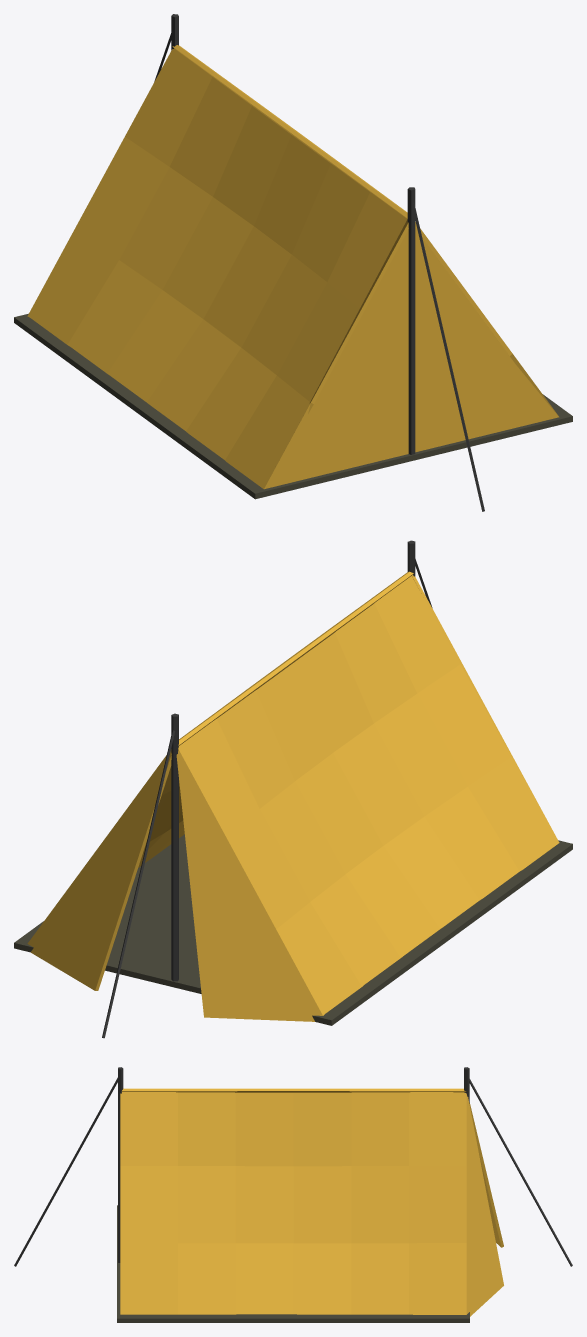
File: kemah-tenda-3.glb
The picture shows the model from 3 angles, top to bottom: view 1: azimuth 30°, elevation 25°; view 2: azimuth 150°, elevation 25°; view 3: azimuth 270°, elevation 25°; orthographic projection. The views are drawn at different scales.
Parts seen in each view (by area): view 1: tenda, alas, tiang, tali; view 2: tenda, alas, tiang.001, tali.001; view 3: tenda, alas, tiang, tali, tali.001.
Part boxes in pixels (box(x1,y1,x2,y2)): tenda: box(27, 45, 559, 489); alas: box(14, 313, 572, 499); tiang: box(407, 187, 415, 454); tali: box(412, 202, 484, 511); tenda: box(27, 571, 559, 1021); alas: box(14, 834, 572, 1025); tiang.001: box(171, 713, 178, 981); tali.001: box(102, 730, 174, 1038); tenda: box(120, 1088, 503, 1316); alas: box(117, 1205, 469, 1322); tiang: box(118, 1067, 123, 1262); tali: box(14, 1077, 117, 1266); tali.001: box(468, 1078, 572, 1266).
Size of the model in its own units: 1.78 by 1.46 by 3.71.
